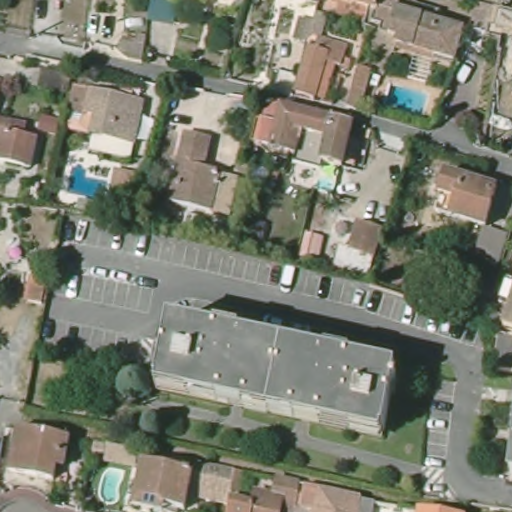pool: (67, 162, 114, 205), (384, 81, 429, 115), (97, 464, 125, 509)
